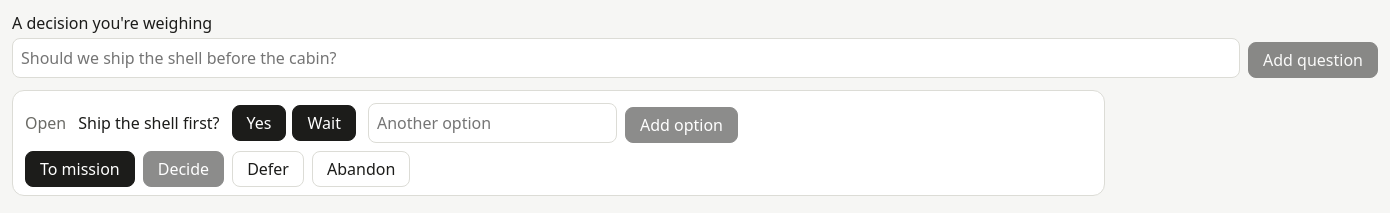
Test: Journal › shows the error and reloads when the cabin removed the question
The image size is (1390, 213).
Click the button "Defer" at (268,169), box x1=232 y1=151 x2=304 y2=187
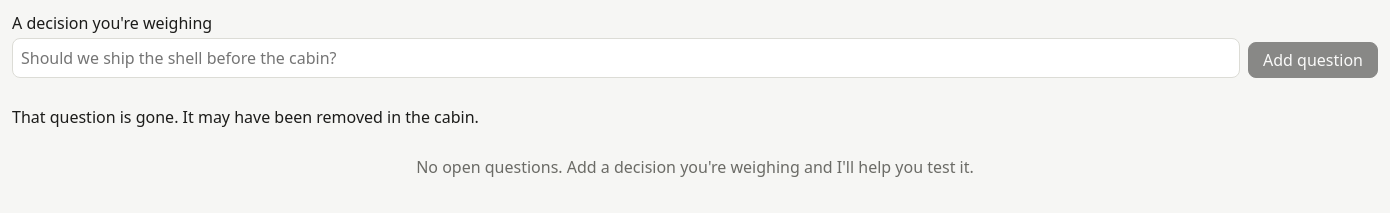
Expected: the message reads "That question is gone. It may have been removed in the cabin.", x1=12 y1=106 x2=479 y2=128
Expected: the text "No open questions. Add a decision you're weighing and I'll help you test it." is shown, x1=416 y1=156 x2=974 y2=178
